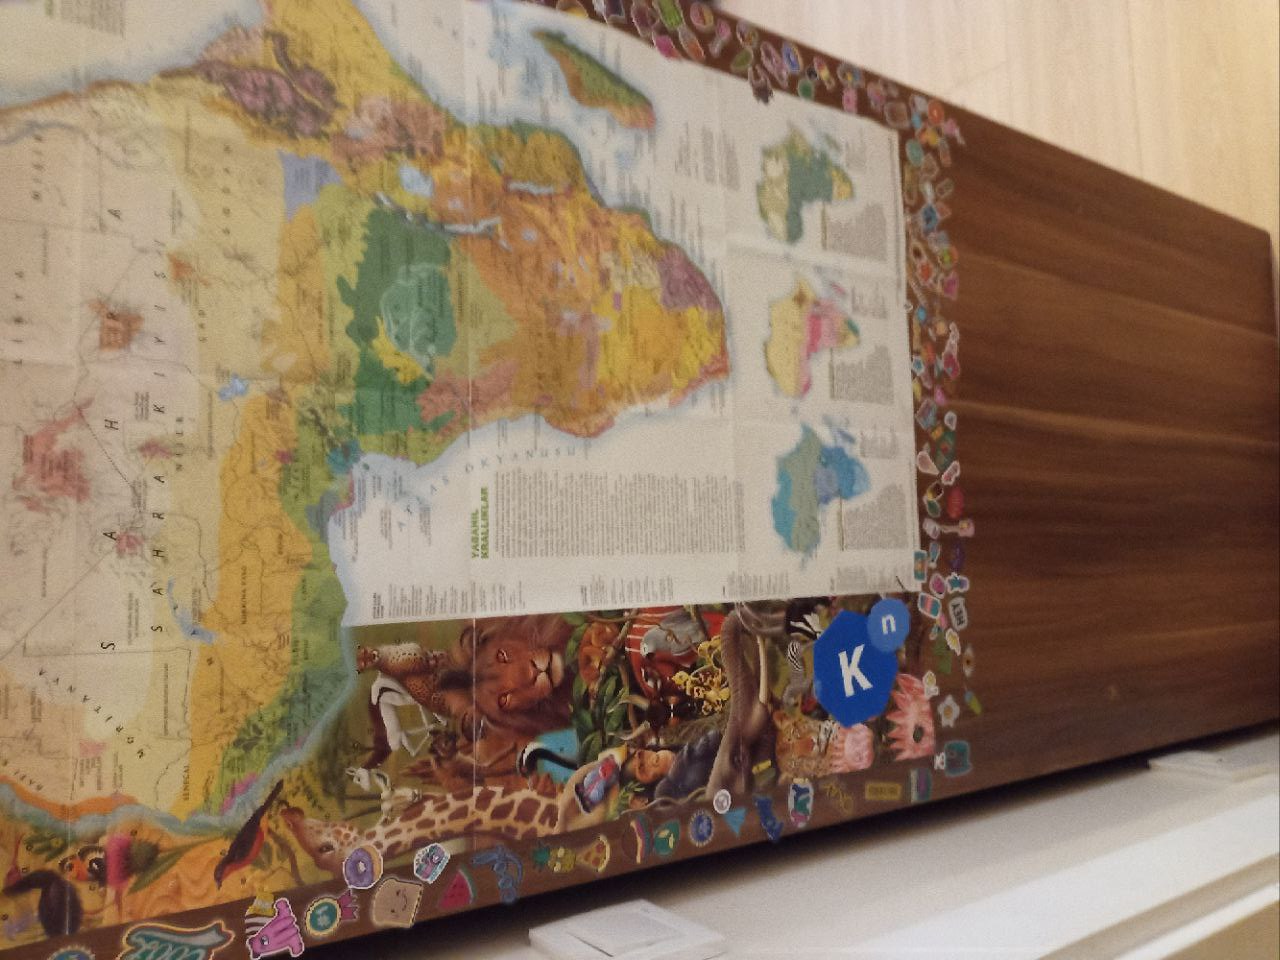knative: (815, 597, 910, 722)
